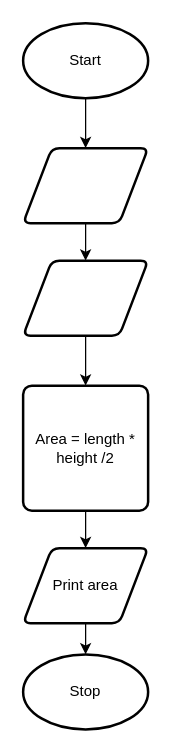
The diagram is 170 pixels wide and 751 high, and some of its shapes have lost their labels. The shapes that lost their labels are listed below. From the top down, each one's centre as x and y in pixels, then its label:
point 85,185: Get length
point 85,297: Get height
